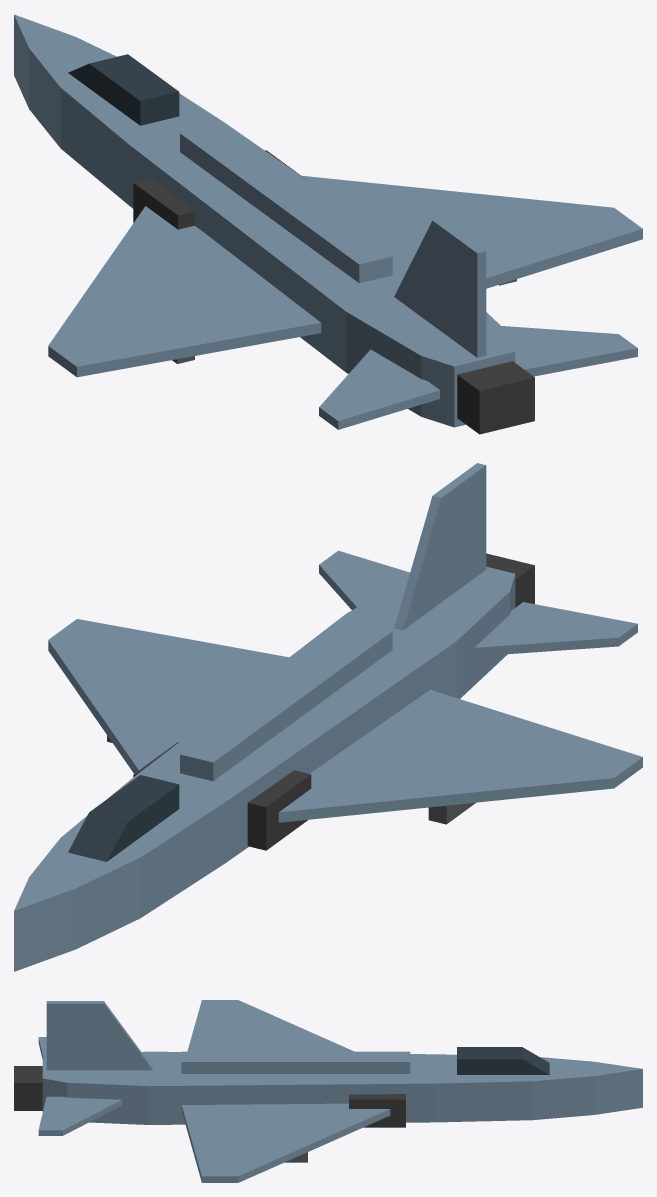
Rendered from jet.glb.
3 renders of one model, top to bottom at view 1: azimuth 30°, elevation 25°; view 2: azimuth 150°, elevation 25°; view 3: azimuth 270°, elevation 25°, orthographic. The views are drawn at different scales.
Parts seen in each view (by area): view 1: Jet; view 2: Jet; view 3: Jet.
Boxes of the visible parts, left/top/right/bottom form: Jet: left=14, top=14, right=642, bottom=434; Jet: left=14, top=463, right=642, bottom=971; Jet: left=14, top=1000, right=642, bottom=1182.
Bounding box in the file's own units: 10.2 × 2.91 × 15.4.
